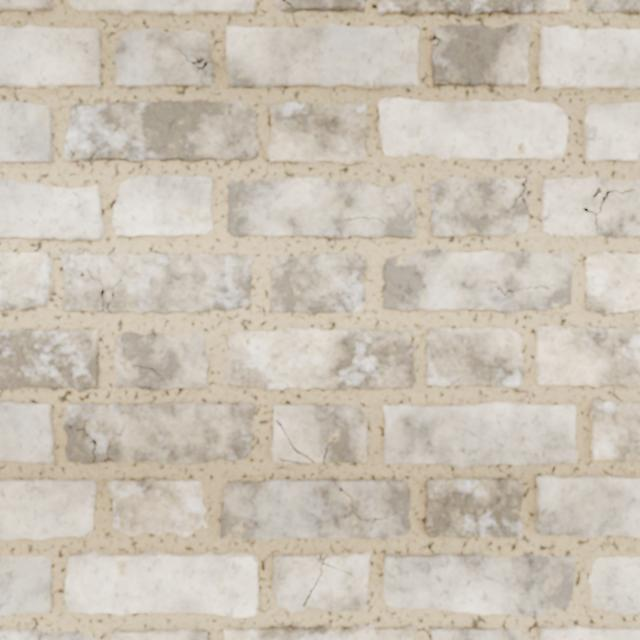crack: (226, 22, 419, 88), (65, 551, 258, 617), (383, 402, 577, 467), (60, 250, 254, 314), (382, 249, 573, 313), (383, 552, 574, 616), (63, 401, 255, 464), (64, 100, 259, 162), (378, 97, 567, 160), (223, 328, 415, 389), (220, 478, 410, 539), (227, 177, 416, 238), (0, 178, 104, 241), (534, 475, 639, 537), (0, 23, 100, 88), (535, 325, 639, 387), (267, 101, 368, 164), (539, 26, 639, 89), (431, 23, 529, 87), (0, 328, 99, 390), (423, 477, 523, 538), (428, 176, 528, 237), (541, 176, 639, 238), (113, 175, 212, 236), (113, 29, 214, 88), (425, 327, 525, 386), (272, 552, 370, 612), (271, 404, 367, 465), (107, 478, 206, 537), (269, 253, 366, 313), (0, 479, 96, 539), (113, 331, 208, 390), (585, 251, 639, 314), (584, 102, 639, 162), (0, 401, 53, 462), (0, 101, 52, 163), (589, 400, 639, 462), (376, 0, 569, 16), (0, 252, 53, 310), (0, 556, 52, 615), (589, 556, 639, 614), (224, 624, 414, 639), (69, 0, 254, 15), (539, 625, 639, 639), (428, 626, 524, 639), (0, 627, 94, 639), (274, 0, 365, 12), (111, 628, 207, 639), (585, 0, 639, 13), (0, 0, 51, 12)
